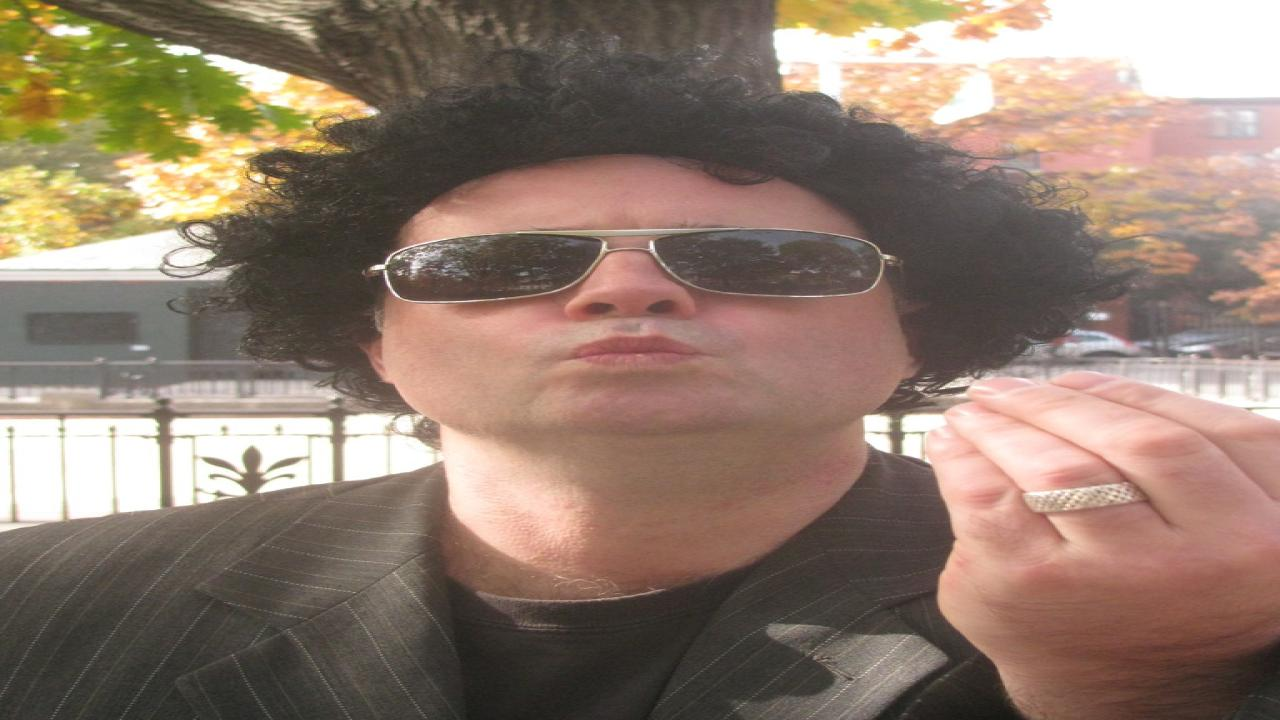ring: (1019, 479, 1148, 518)
